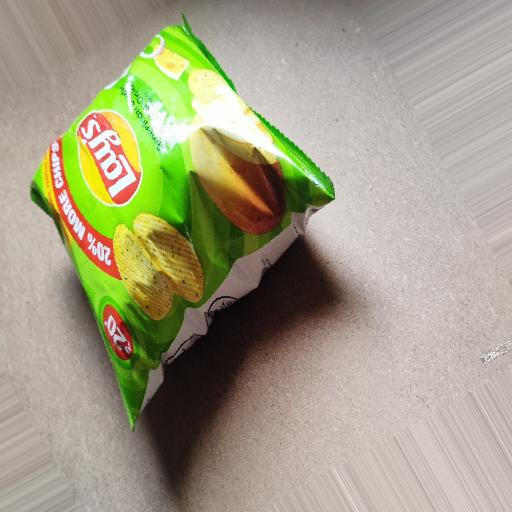Lays Green Small pack (American style cream and onion): (0, 13, 391, 407)
